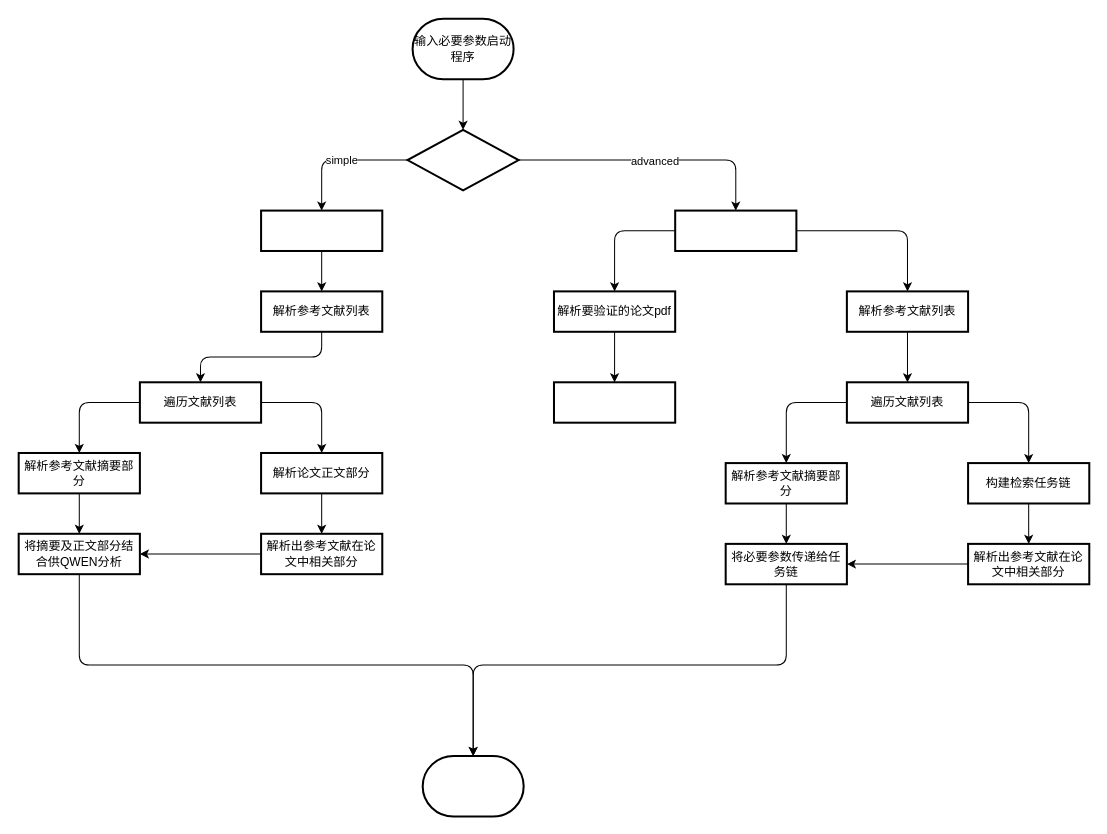
This 1107x834 diagram has some shape labels left out. Each missing label, with the box of its shape:
将解析的向量块构建FAISS向量数据库: (552, 381, 676, 423)
构建Langchain Grobid解析器: (674, 209, 797, 251)
输出结果至output文件夹: (421, 754, 524, 817)
连接Grobid服务: (260, 209, 383, 251)
选择使用模式: (406, 128, 519, 191)
